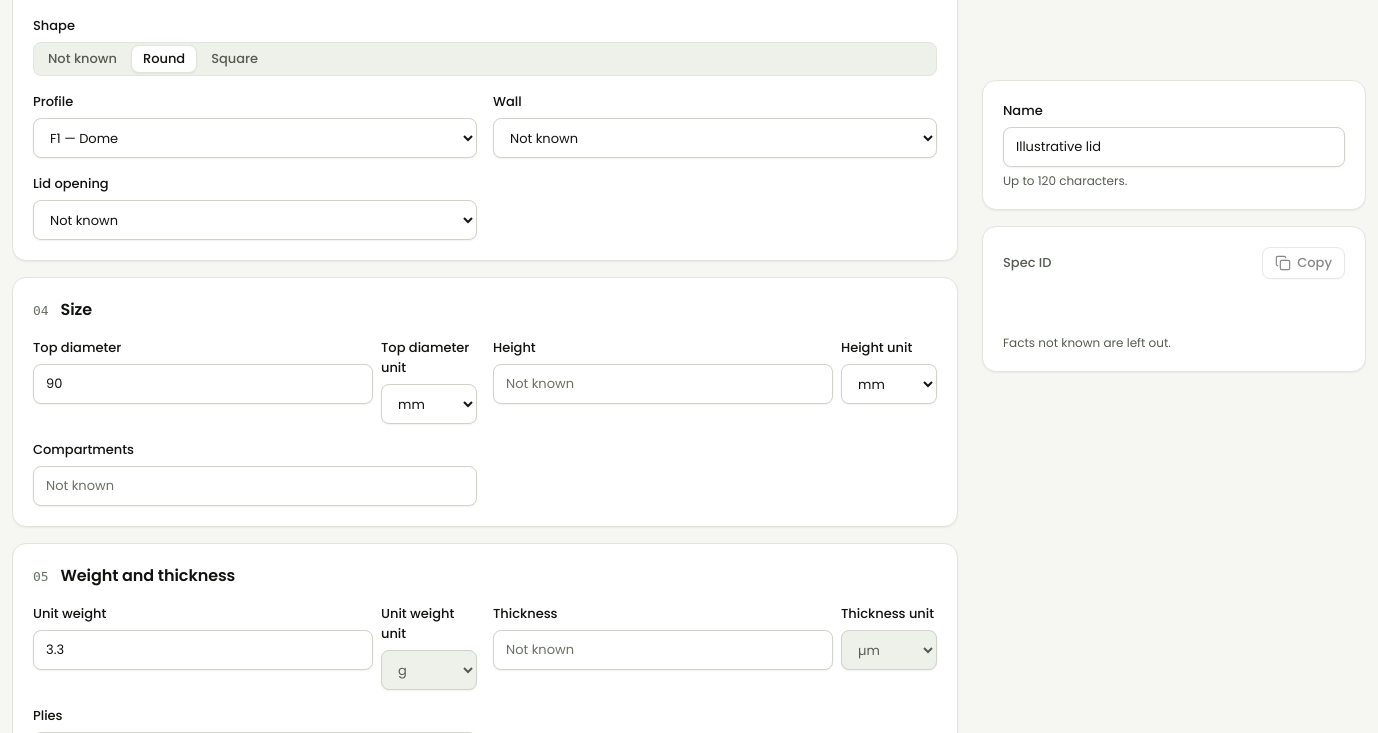
Test: SpecIdEditor, Save changes › waits for a change, and waits again after the change is undone
(page scrolled)
Type "62" into the field labelled "Height" at point(663, 384), box [493,364,833,404]
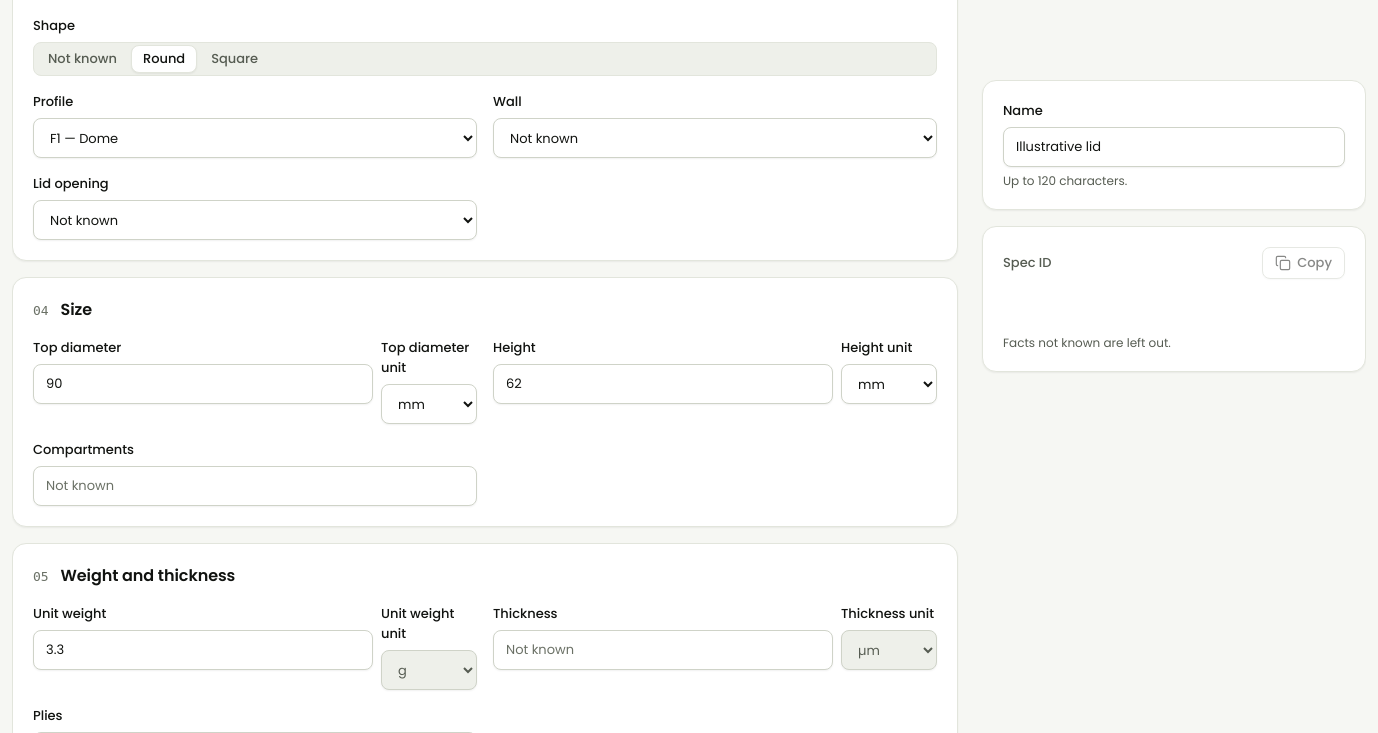
Clear the field labelled "Height" at point(663, 384), box [493,364,833,404]
(page scrolled)
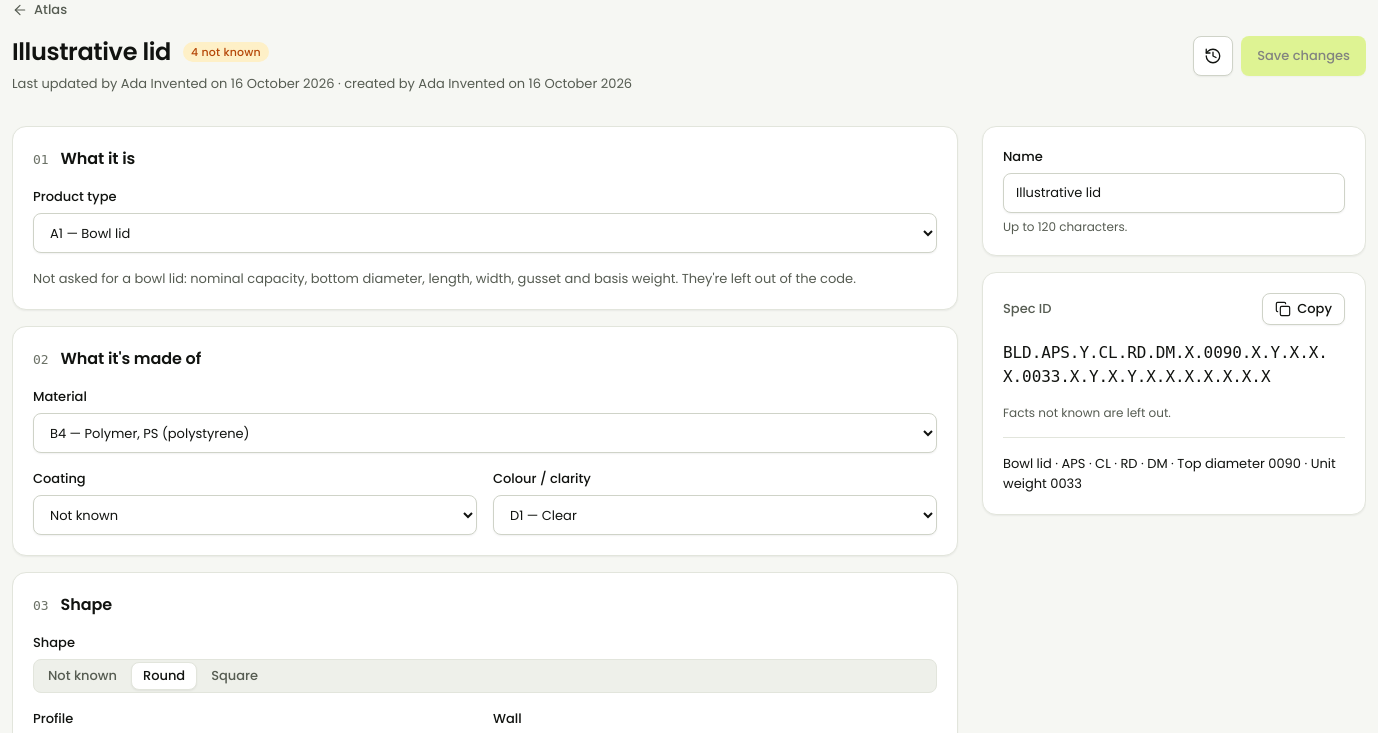
Check: the button "Save changes" is disabled, box [1241,36,1366,76]
